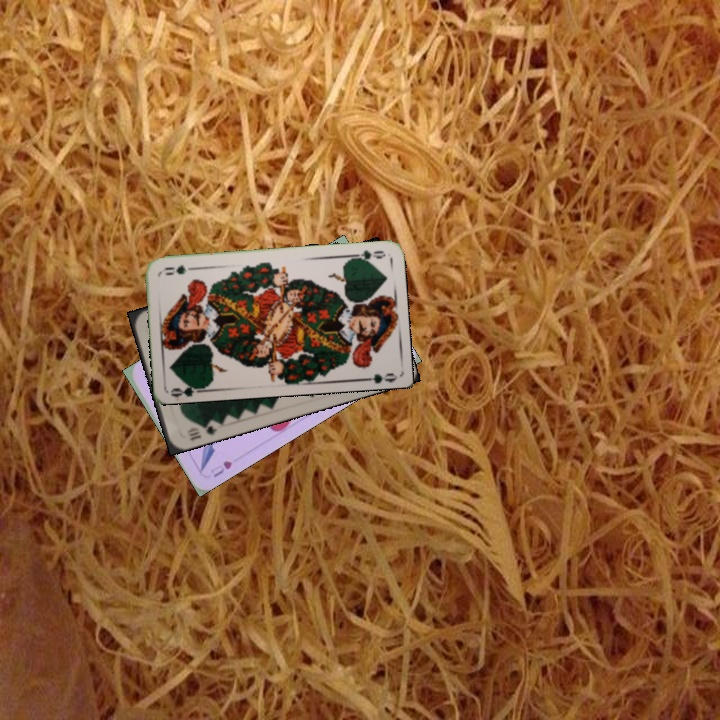G10: (183, 418, 219, 444)
GO: (168, 378, 208, 399), (347, 246, 388, 264)
HU: (206, 456, 235, 480)
